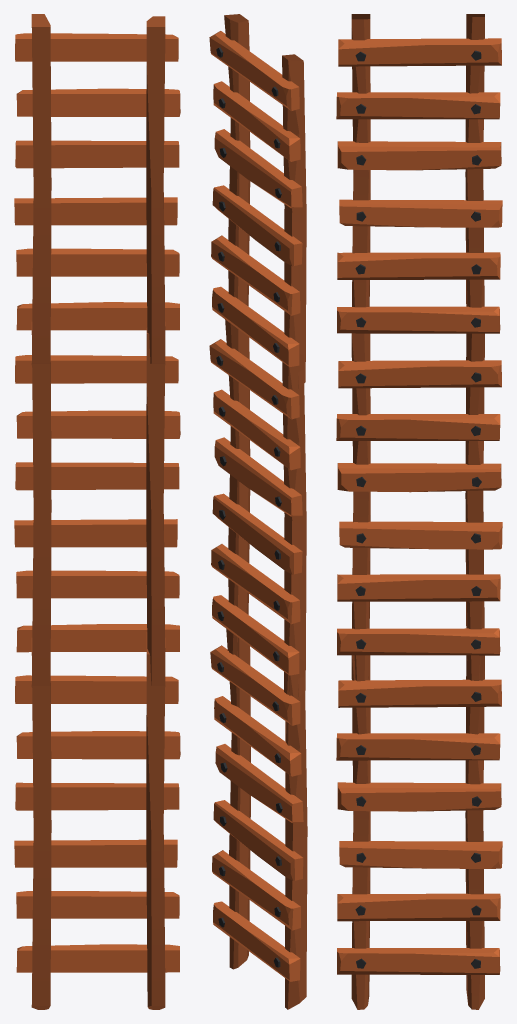
3 views of the same model, side by side, from view 1: azimuth 90°, elevation 25°; view 2: azimuth 210°, elevation 25°; view 3: azimuth 270°, elevation 25° (orthographic). The views are drawn at different scales.
Visible parts, largest first — view 1: louti; view 2: louti; view 3: louti.
Boxes of the visible parts, x1=… form: louti: x1=14, y1=14, x2=180, y2=1009; louti: x1=209, y1=14, x2=307, y2=1009; louti: x1=336, y1=14, x2=502, y2=1009.
Size of the model in its own units: 32.18 by 962 by 146.
